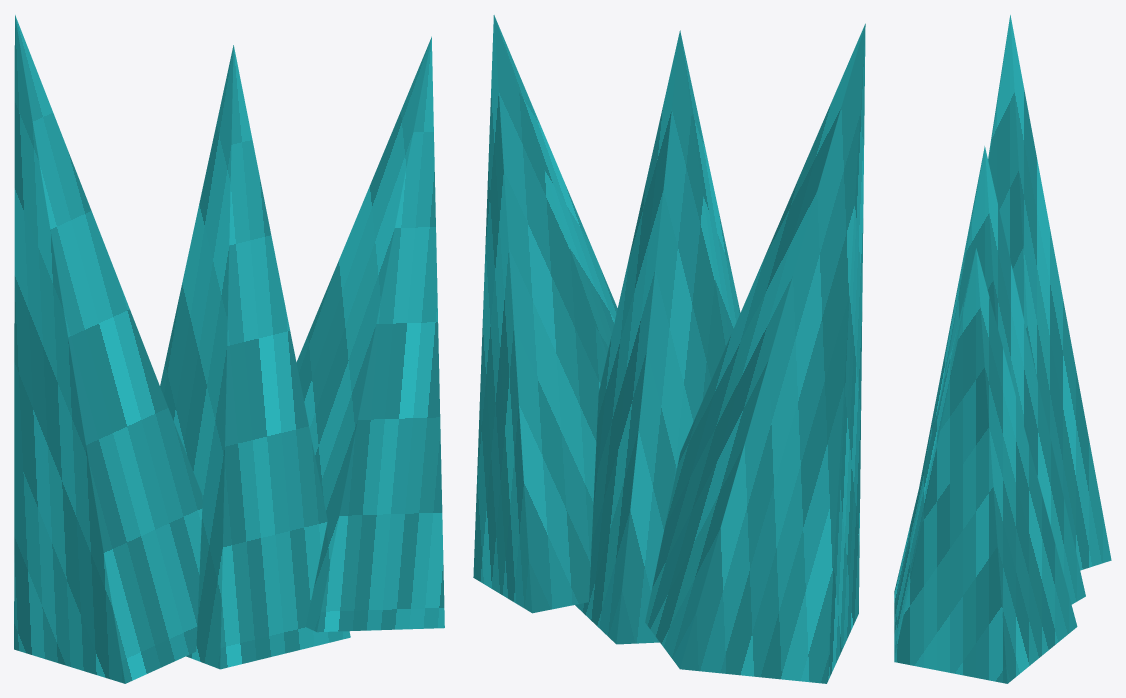
The model's file is crystal_23.glb.
3 renders of one model, left to right at view 1: azimuth 30°, elevation 25°; view 2: azimuth 150°, elevation 25°; view 3: azimuth 270°, elevation 25°, orthographic. The views are drawn at different scales.
Visible parts, largest first — view 1: Jade, Jade.001, Jade.002; view 2: Jade, Jade.002, Jade.001; view 3: Jade.002, Jade, Jade.001.
Part boxes in pixels (x1,y1,x2,y2): Jade: (14, 15, 202, 683); Jade.001: (160, 45, 350, 669); Jade.002: (296, 36, 444, 632); Jade: (645, 23, 865, 683); Jade.002: (473, 15, 617, 613); Jade.001: (575, 30, 740, 644); Jade.002: (894, 248, 1077, 683); Jade: (988, 15, 1111, 570); Jade.001: (919, 146, 1085, 604).
Size of the model in its own units: 0.7846 by 1.24 by 0.4721.
1 material, 1 textured.
